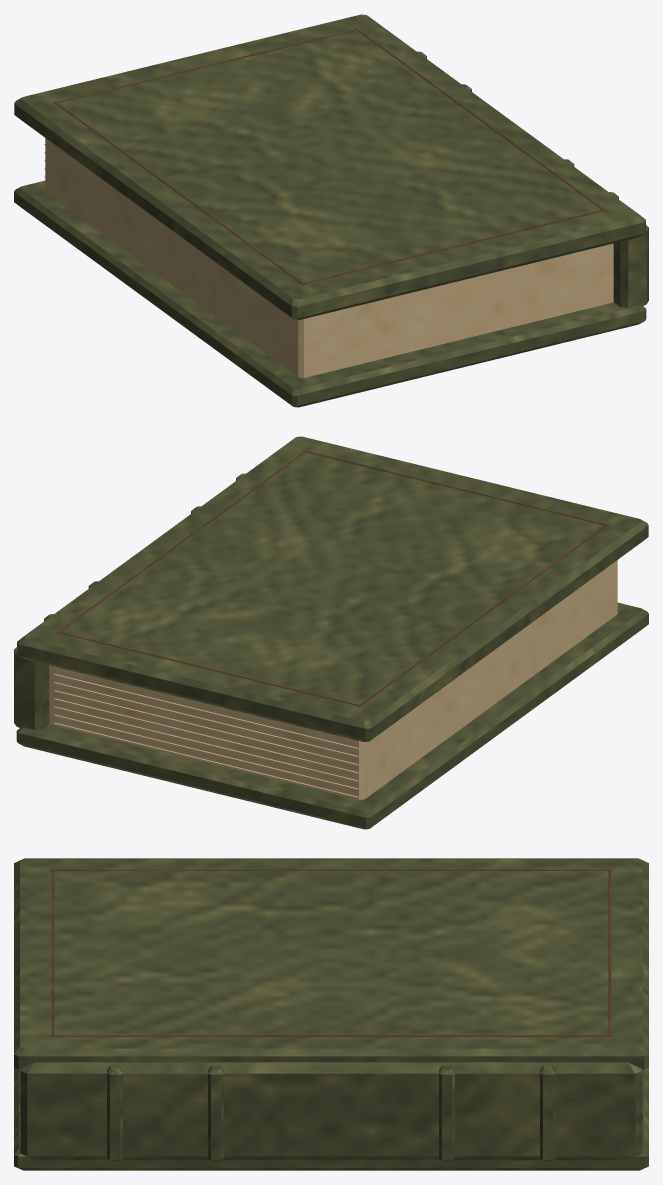
Rendered from Book_Moss.obj.
The picture shows the model from 3 angles, top to bottom: view 1: azimuth 30°, elevation 25°; view 2: azimuth 150°, elevation 25°; view 3: azimuth 270°, elevation 25°; orthographic projection. The views are drawn at different scales.
Parts seen in each view (by area): view 1: Book_Moss_Mesh; view 2: Book_Moss_Mesh; view 3: Book_Moss_Mesh.
Part boxes in pixels (x1,y1,x2,y2): Book_Moss_Mesh: (14, 14, 648, 407); Book_Moss_Mesh: (14, 436, 648, 829); Book_Moss_Mesh: (14, 858, 648, 1170).
Size of the model in its own units: 0.332 by 0.0935 by 0.44.
4 materials, 4 textured.
